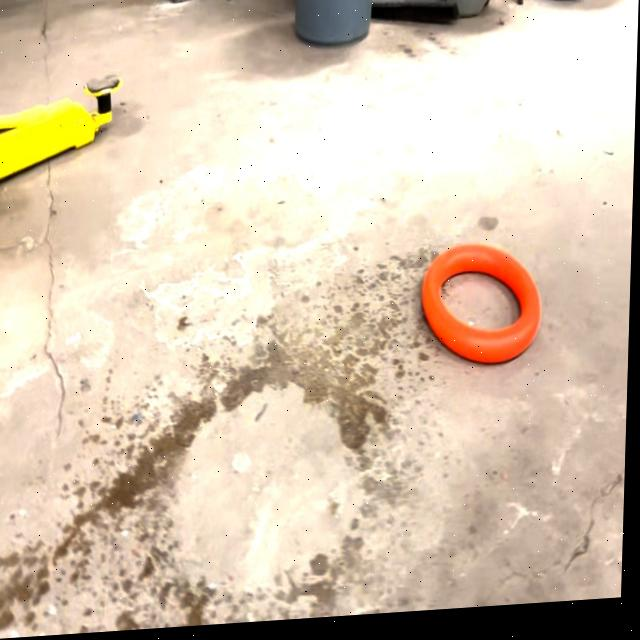note: (421, 244, 546, 383)
